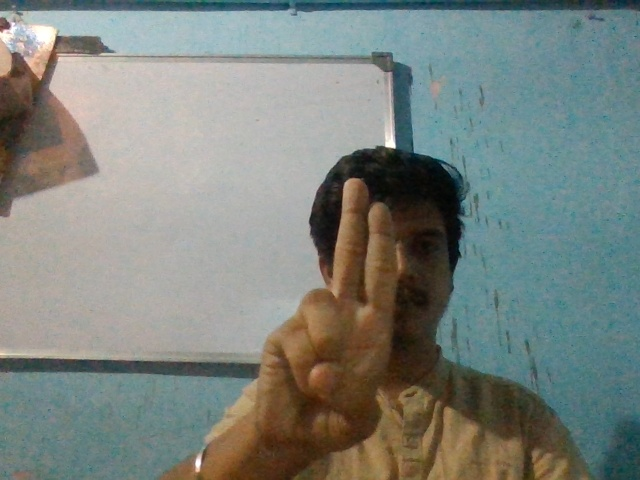Prana: (252, 160, 402, 448)
